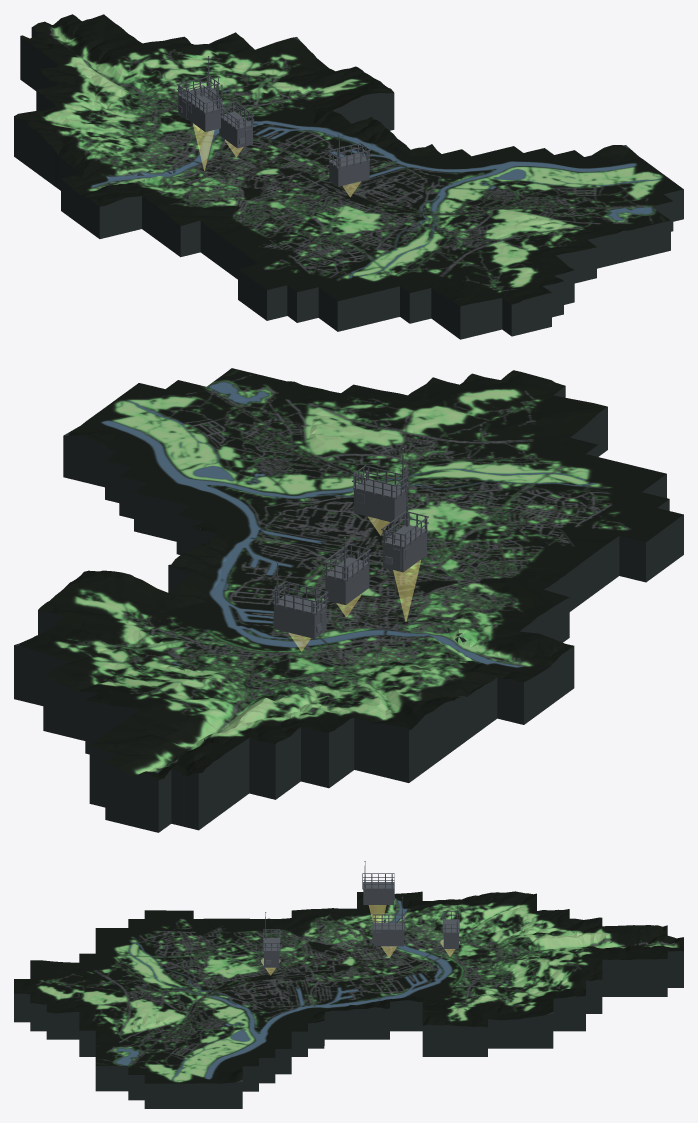
Rendered from lufti_scene.glb.
3 renders of one model, top to bottom at view 1: azimuth 30°, elevation 25°; view 2: azimuth 150°, elevation 25°; view 3: azimuth 270°, elevation 25°, orthographic. The views are drawn at different scales.
Visible parts, largest first — view 1: lo dec 005, S416, S431, S184, S415; view 2: lo dec 005, S416, S415, S431, S184, rom; view 3: lo dec 005, S184, S431, S416, S415.
Boxes of the visible parts, <box> form: lo dec 005: <box>14,14,683,339</box>; S416: <box>327,134,370,186</box>; S431: <box>185,77,222,131</box>; S184: <box>219,84,254,148</box>; S415: <box>176,56,219,120</box>; lo dec 005: <box>14,368,683,832</box>; S416: <box>352,448,408,522</box>; S415: <box>272,562,328,638</box>; S431: <box>381,485,428,572</box>; S184: <box>323,537,370,604</box>; rom: <box>393,560,420,621</box>; lo dec 005: <box>14,891,683,1108</box>; S184: <box>372,897,404,946</box>; S431: <box>362,861,394,904</box>; S416: <box>263,912,280,967</box>; S415: <box>442,905,459,948</box>.
Size of what is drawn, in the model's own units: 6.69 by 1.79 by 9.99.
3 materials, 1 textured.
